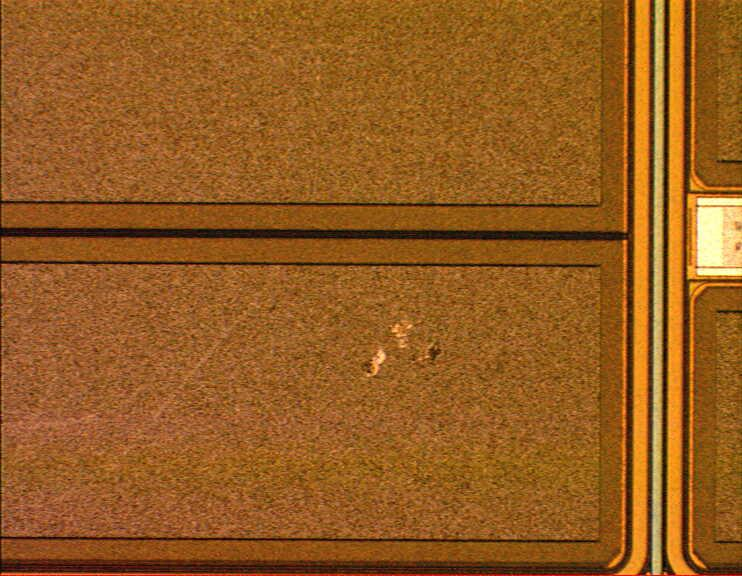SCRATCH: (358, 305, 448, 398)
